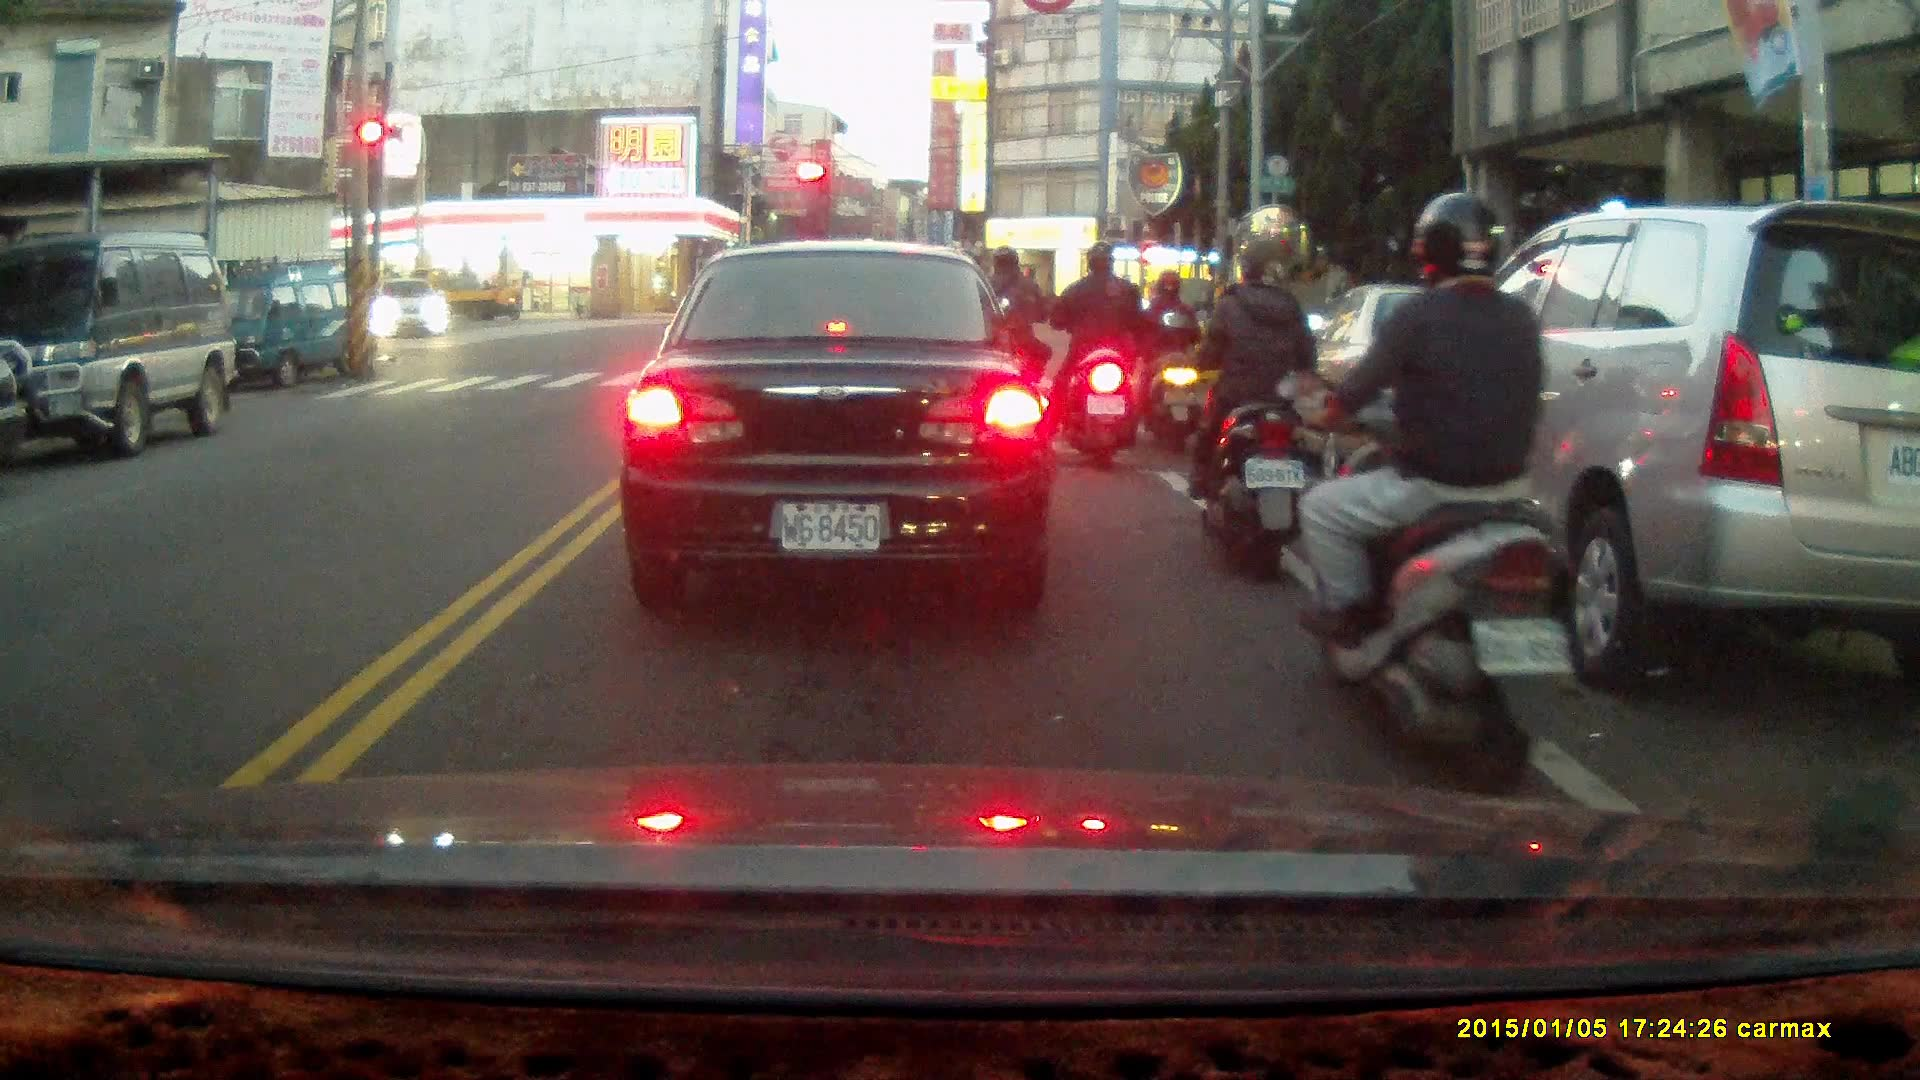rider: (1280, 187, 1582, 793), (1159, 235, 1322, 578), (1048, 243, 1141, 469), (963, 245, 1049, 449), (1134, 269, 1204, 450)
vehicle: (1382, 195, 1920, 685), (617, 243, 1061, 606), (1264, 282, 1568, 492), (1, 234, 239, 458), (194, 255, 381, 395), (397, 265, 532, 327), (372, 277, 451, 343)
